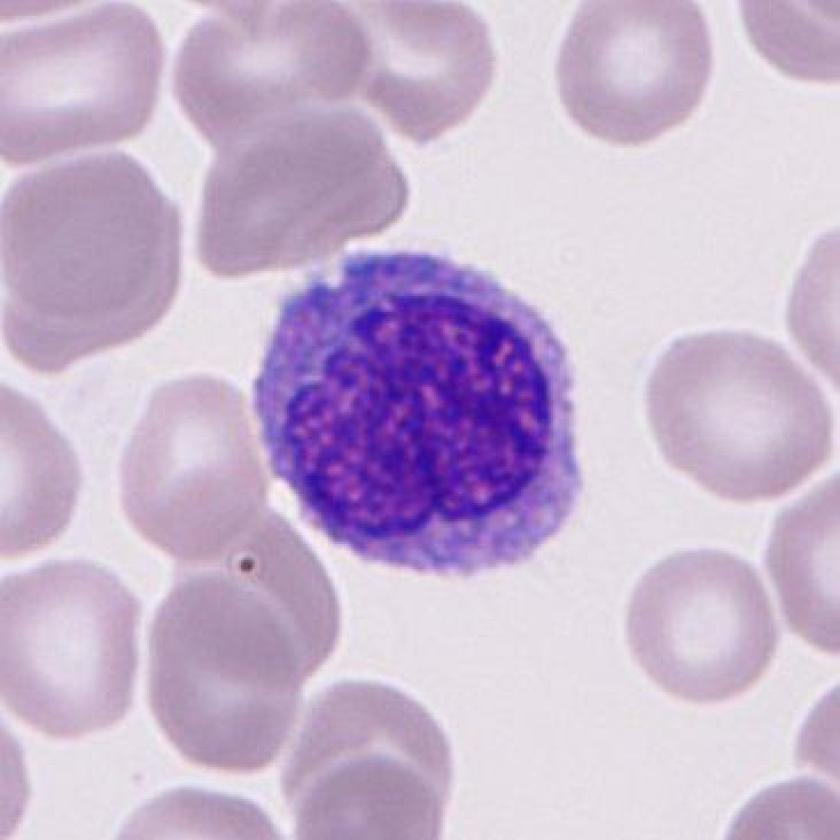monocyte: (235, 229, 607, 595)
